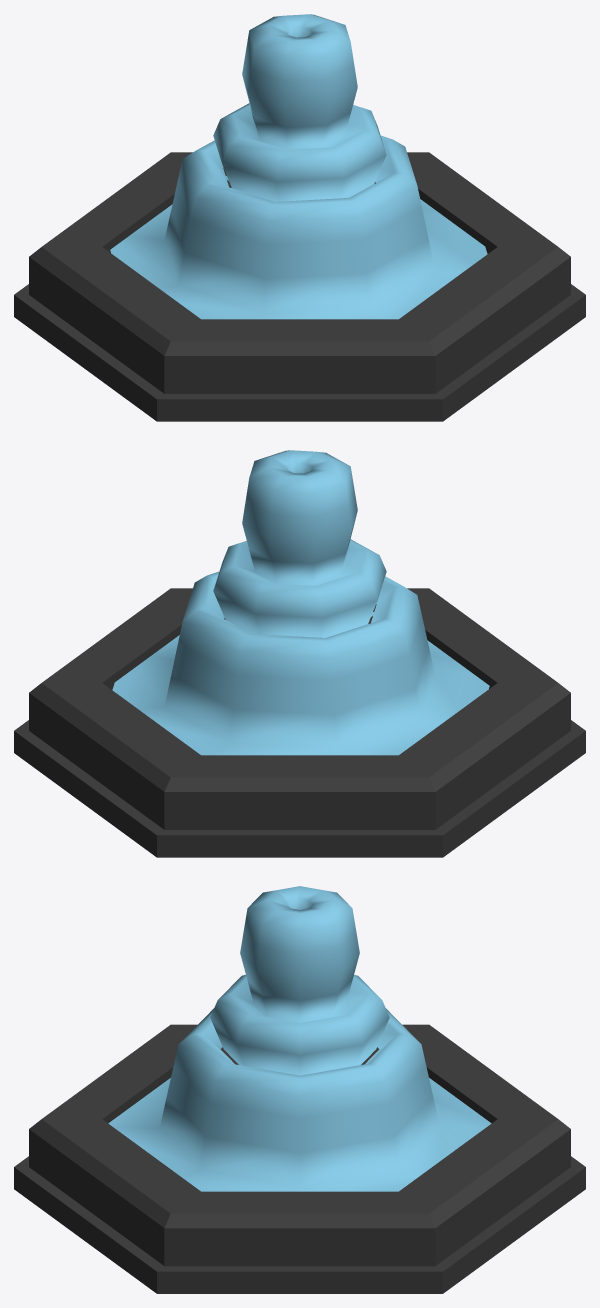
The model's file is fountain.fbx.
The picture shows the model from 3 angles, top to bottom: view 1: azimuth 30°, elevation 25°; view 2: azimuth 150°, elevation 25°; view 3: azimuth 270°, elevation 25°; orthographic projection.
Parts seen in each view (by area): view 1: city.002, water; view 2: city.002, water; view 3: city.002, water.
Boxes of the visible parts, x1=… form: city.002: x1=14, y1=152, x2=585, y2=421; water: x1=110, y1=14, x2=487, y2=319; city.002: x1=14, y1=588, x2=585, y2=857; water: x1=112, y1=450, x2=489, y2=755; city.002: x1=14, y1=1024, x2=585, y2=1293; water: x1=108, y1=886, x2=491, y2=1191.
Size of the model in its own units: 183 by 118 by 211.
